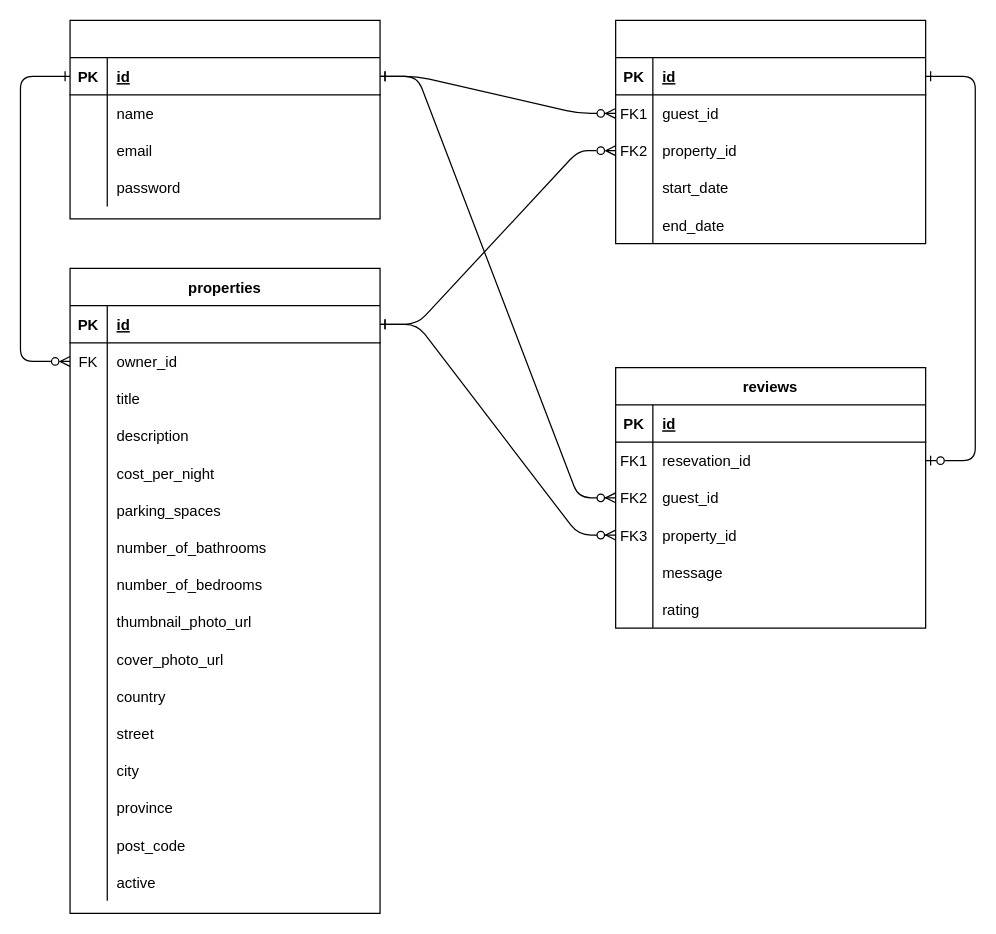
This 996x934 diagram has some shape labels left out. The box of each missing label's shape, as (x1, y1, x2, y2) in pixels:
resevations: (614, 19, 926, 244)
users: (69, 19, 380, 219)
